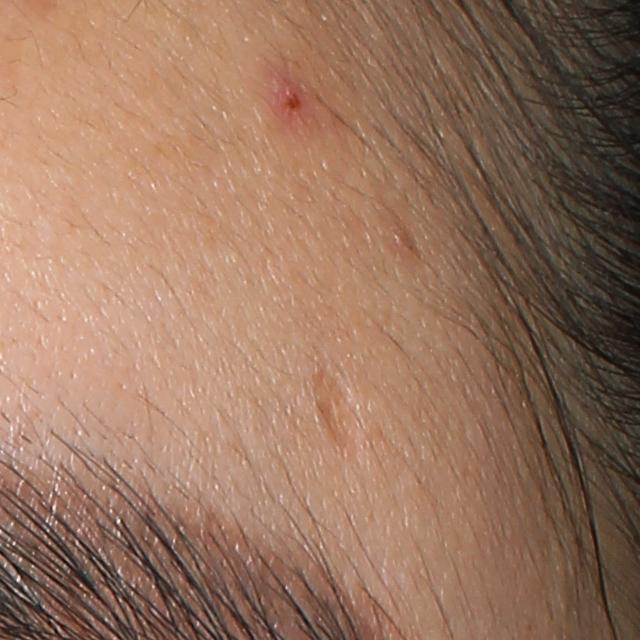atrophic_scar: (304, 360, 370, 455)
